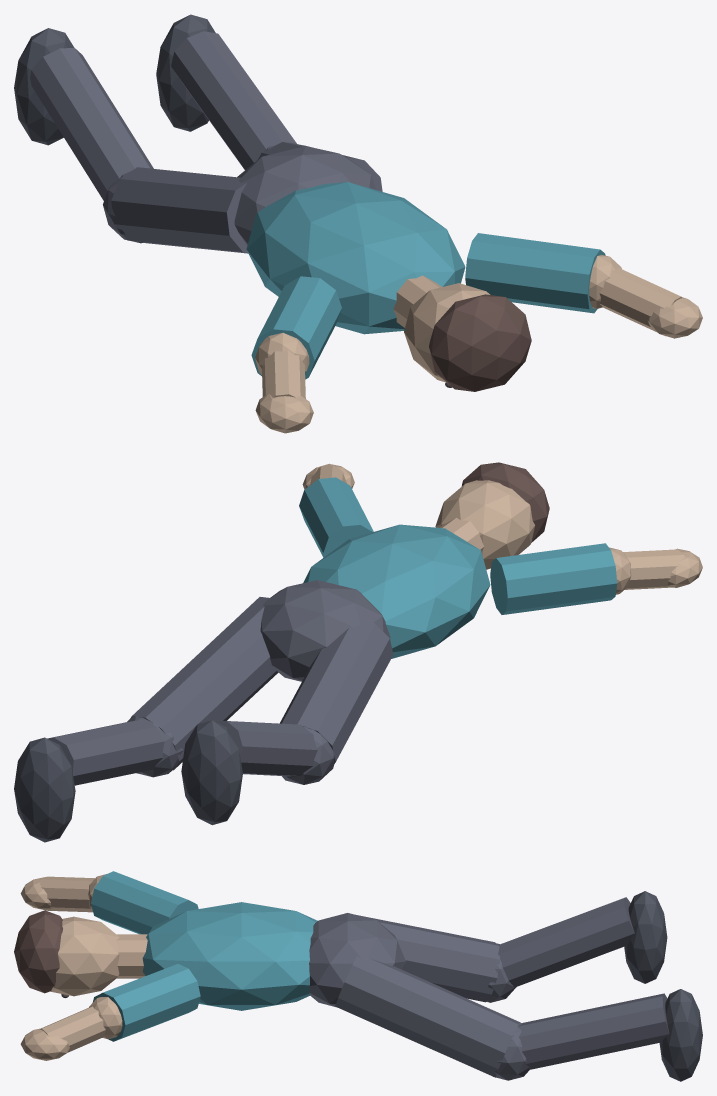
3 views of the same model, one above another, from view 1: azimuth 30°, elevation 25°; view 2: azimuth 150°, elevation 25°; view 3: azimuth 270°, elevation 25° (orthographic). The views are drawn at different scales.
Parts seen in each view (by area): view 1: world; view 2: world; view 3: world.
Part boxes in pixels (x1,y1,x2,y2): world: (14, 14, 702, 433); world: (14, 462, 702, 842); world: (14, 871, 702, 1081).
Size of the model in its own units: 1.17 by 0.4125 by 2.01.
